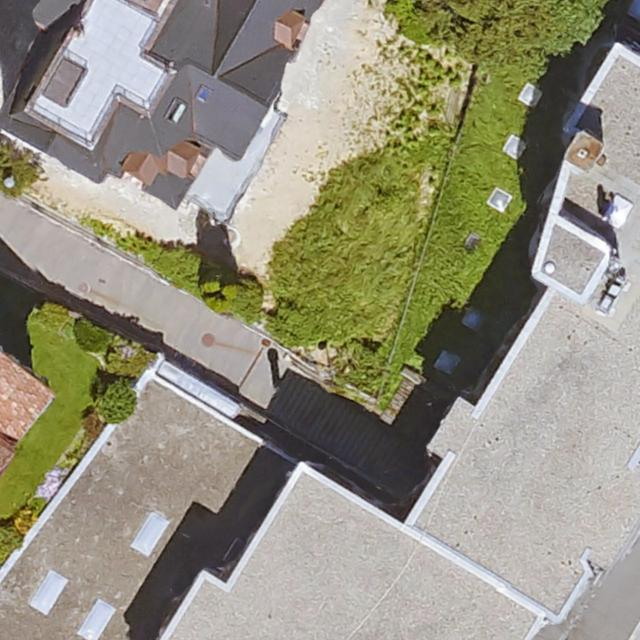tree: (382, 0, 602, 61), (0, 137, 38, 198), (202, 270, 243, 313)
